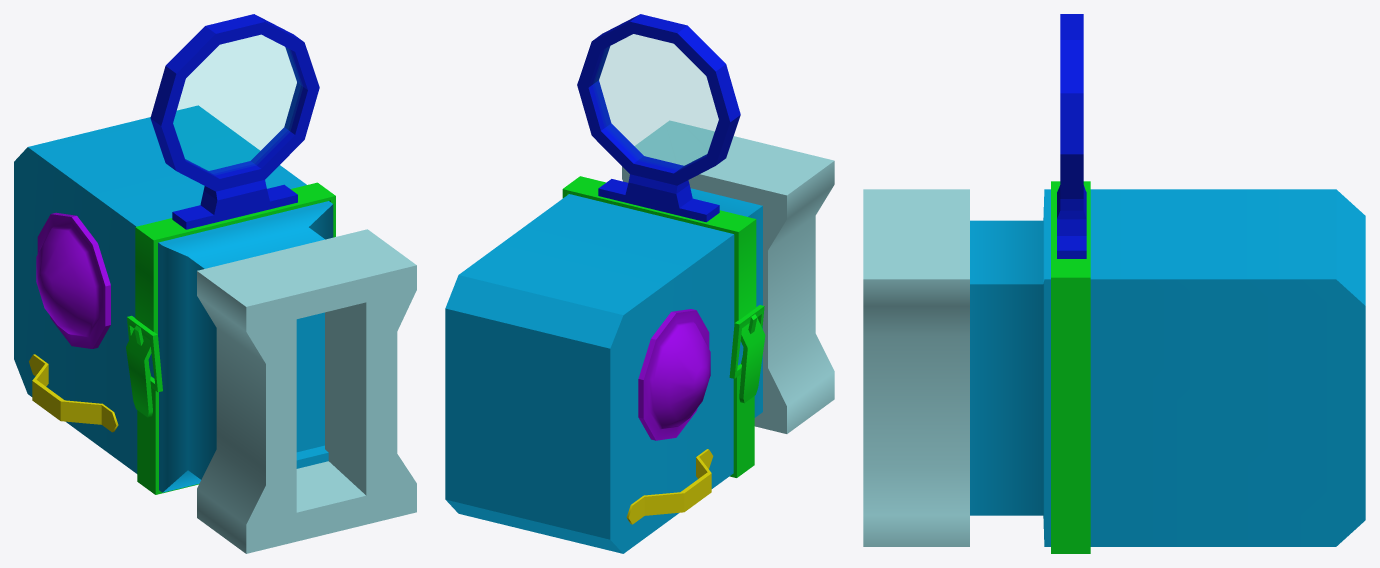
The model's file is LaserV2.fbx.
3 views of the same model, side by side, from view 1: azimuth 30°, elevation 25°; view 2: azimuth 150°, elevation 25°; view 3: azimuth 270°, elevation 25° (orthographic). The views are drawn at different scales.
Visible parts, largest first — view 1: LaserBody, LaserHead_LP, Scope_LP, Belt_LP, Button_LP, Handle_LP; view 2: LaserBody, Scope_LP, LaserHead_LP, Belt_LP, Button_LP, Handle_LP; view 3: LaserBody, LaserHead_LP, Belt_LP, Scope_LP.
Part boxes in pixels (x1,y1,x2,y2): LaserBody: (14,105,333,492); LaserHead_LP: (197,229,416,553); Scope_LP: (150,14,319,229); Belt_LP: (126,182,335,494); Button_LP: (36,212,110,348); Handle_LP: (29,354,118,432); LaserBody: (445,188,762,553); Scope_LP: (577,14,740,222); LaserHead_LP: (622,120,834,433); Belt_LP: (562,176,765,477); Button_LP: (638,309,710,440); Handle_LP: (626,449,713,524); LaserBody: (970,189,1365,546); LaserHead_LP: (863,189,969,546); Belt_LP: (1051,181,1090,553); Scope_LP: (1057,14,1086,258).
Size of the model in its own units: 24.71 by 49.52 by 47.1.
